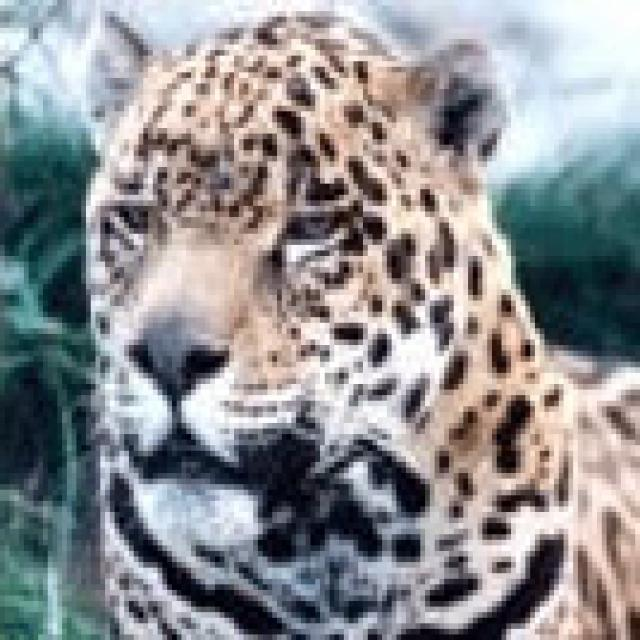Leopard: (81, 0, 631, 629)
